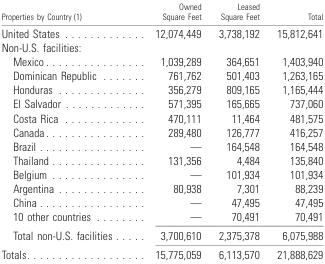table: (0, 0, 322, 260)
table column: (0, 0, 132, 260), (132, 0, 209, 260), (209, 0, 267, 260), (267, 0, 322, 260)
table column header: (0, 0, 322, 23)
table projected row header: (0, 39, 322, 54)
table row: (0, 0, 322, 23), (0, 225, 322, 244), (0, 208, 322, 225), (0, 23, 322, 39), (0, 244, 322, 260), (0, 39, 322, 54), (0, 54, 322, 68), (0, 68, 322, 82), (0, 82, 322, 96), (0, 96, 322, 110), (0, 110, 322, 124), (0, 124, 322, 138), (0, 138, 322, 152), (0, 152, 322, 166), (0, 166, 322, 180), (0, 180, 322, 194), (0, 194, 322, 208)
